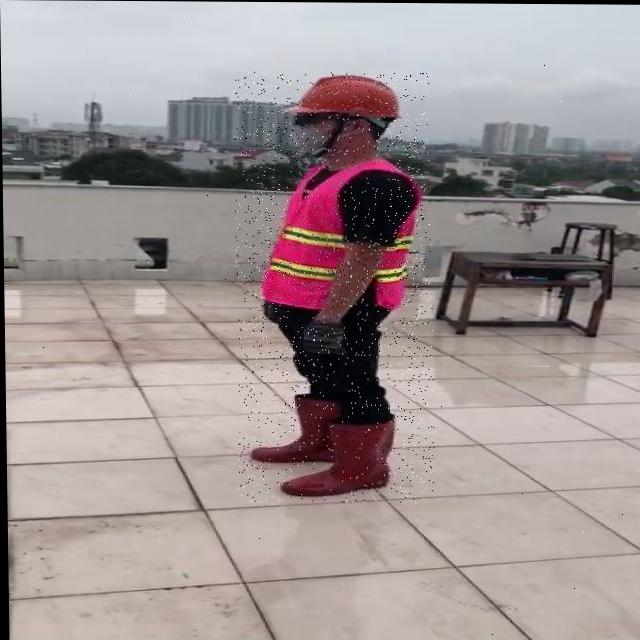Gloves: (299, 316, 347, 356)
Helmet: (289, 73, 401, 125)
Safety-Boot: (279, 414, 397, 496), (249, 392, 341, 463)
Safety-Vest: (258, 156, 425, 312)
